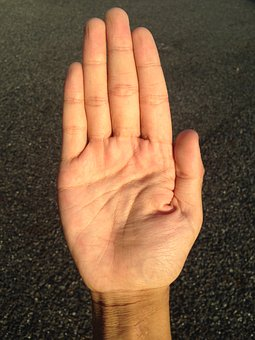palm: (63, 148, 188, 282)
